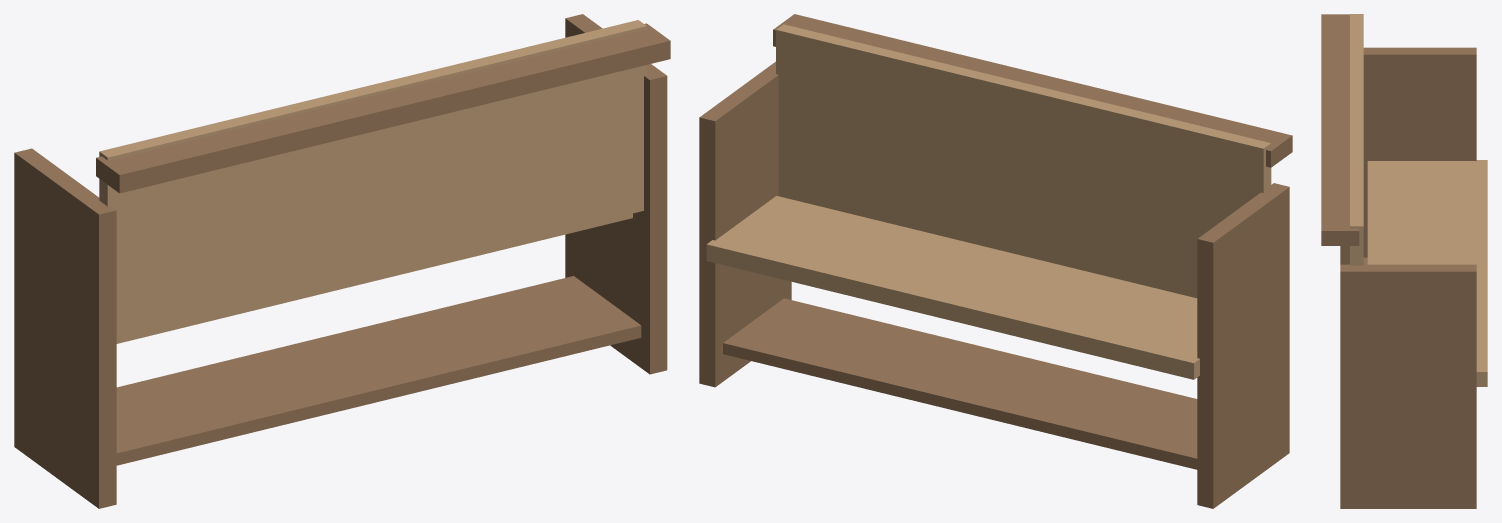
The model's file is pew.glb.
3 renders of one model, left to right at view 1: azimuth 30°, elevation 25°; view 2: azimuth 150°, elevation 25°; view 3: azimuth 270°, elevation 25°, orthographic. The views are drawn at different scales.
Parts seen in each view (by area): view 1: pew; view 2: pew; view 3: pew.
Boxes of the visible parts, x1,y1,x2,y2 form: pew: (14, 14, 670, 508); pew: (699, 14, 1292, 508); pew: (1321, 14, 1487, 508).
Size of the model in its own units: 1.94 by 1.12 by 0.61.
